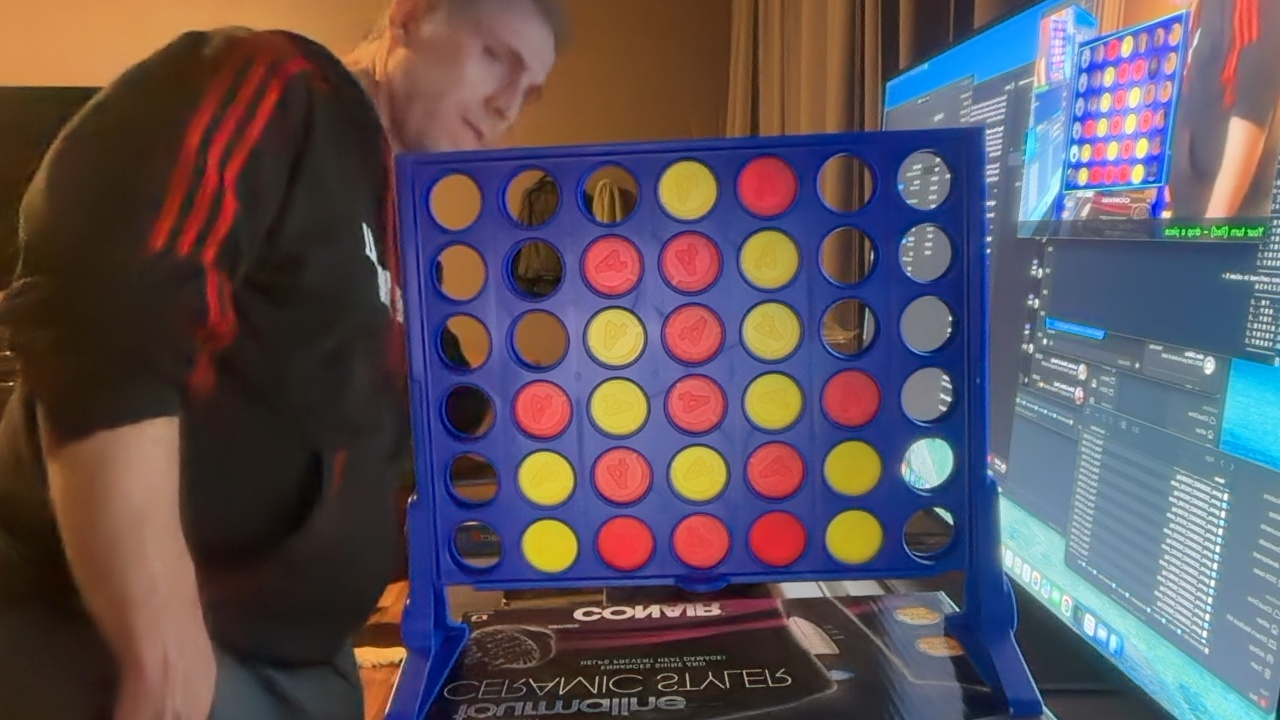red piece: (659, 232, 722, 293), (737, 155, 798, 217), (663, 304, 724, 364), (582, 236, 642, 297), (666, 375, 726, 434), (592, 447, 652, 505), (746, 442, 805, 500), (821, 370, 881, 427), (513, 381, 571, 439), (748, 511, 807, 567), (672, 514, 730, 569), (596, 516, 654, 571)
yellow piece: (586, 307, 646, 367), (658, 160, 718, 220), (740, 229, 799, 290), (588, 378, 649, 437), (742, 302, 801, 361), (744, 373, 803, 431), (669, 445, 728, 502), (517, 451, 575, 507), (823, 441, 882, 496), (825, 510, 883, 564), (521, 519, 578, 573)
